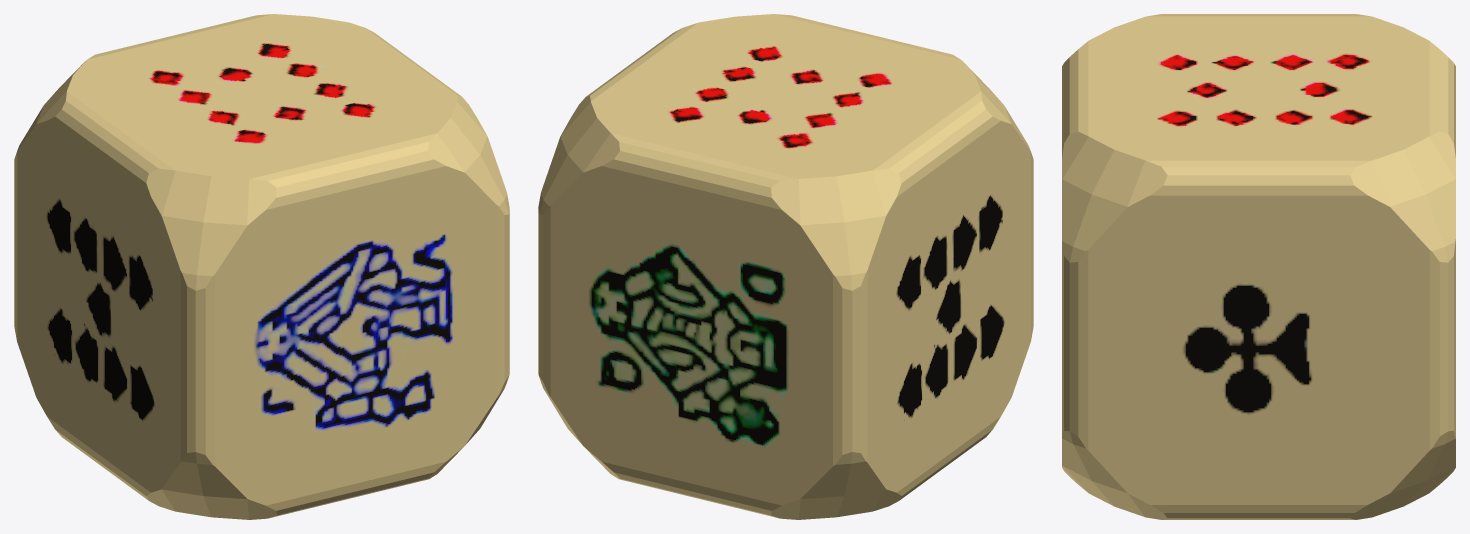
The model's file is dice.fbx.
The picture shows the model from 3 angles, left to right: view 1: azimuth 30°, elevation 25°; view 2: azimuth 150°, elevation 25°; view 3: azimuth 270°, elevation 25°; orthographic projection. The views are drawn at different scales.
Visible parts, largest first — view 1: Cube; view 2: Cube; view 3: Cube.
Part boxes in pixels (x1,y1,x2,y2): Cube: (14,14,509,519); Cube: (538,14,1033,519); Cube: (1062,14,1455,519).
Bounding box in the file's own units: 200 × 200 × 200.
1 material, 1 textured.
